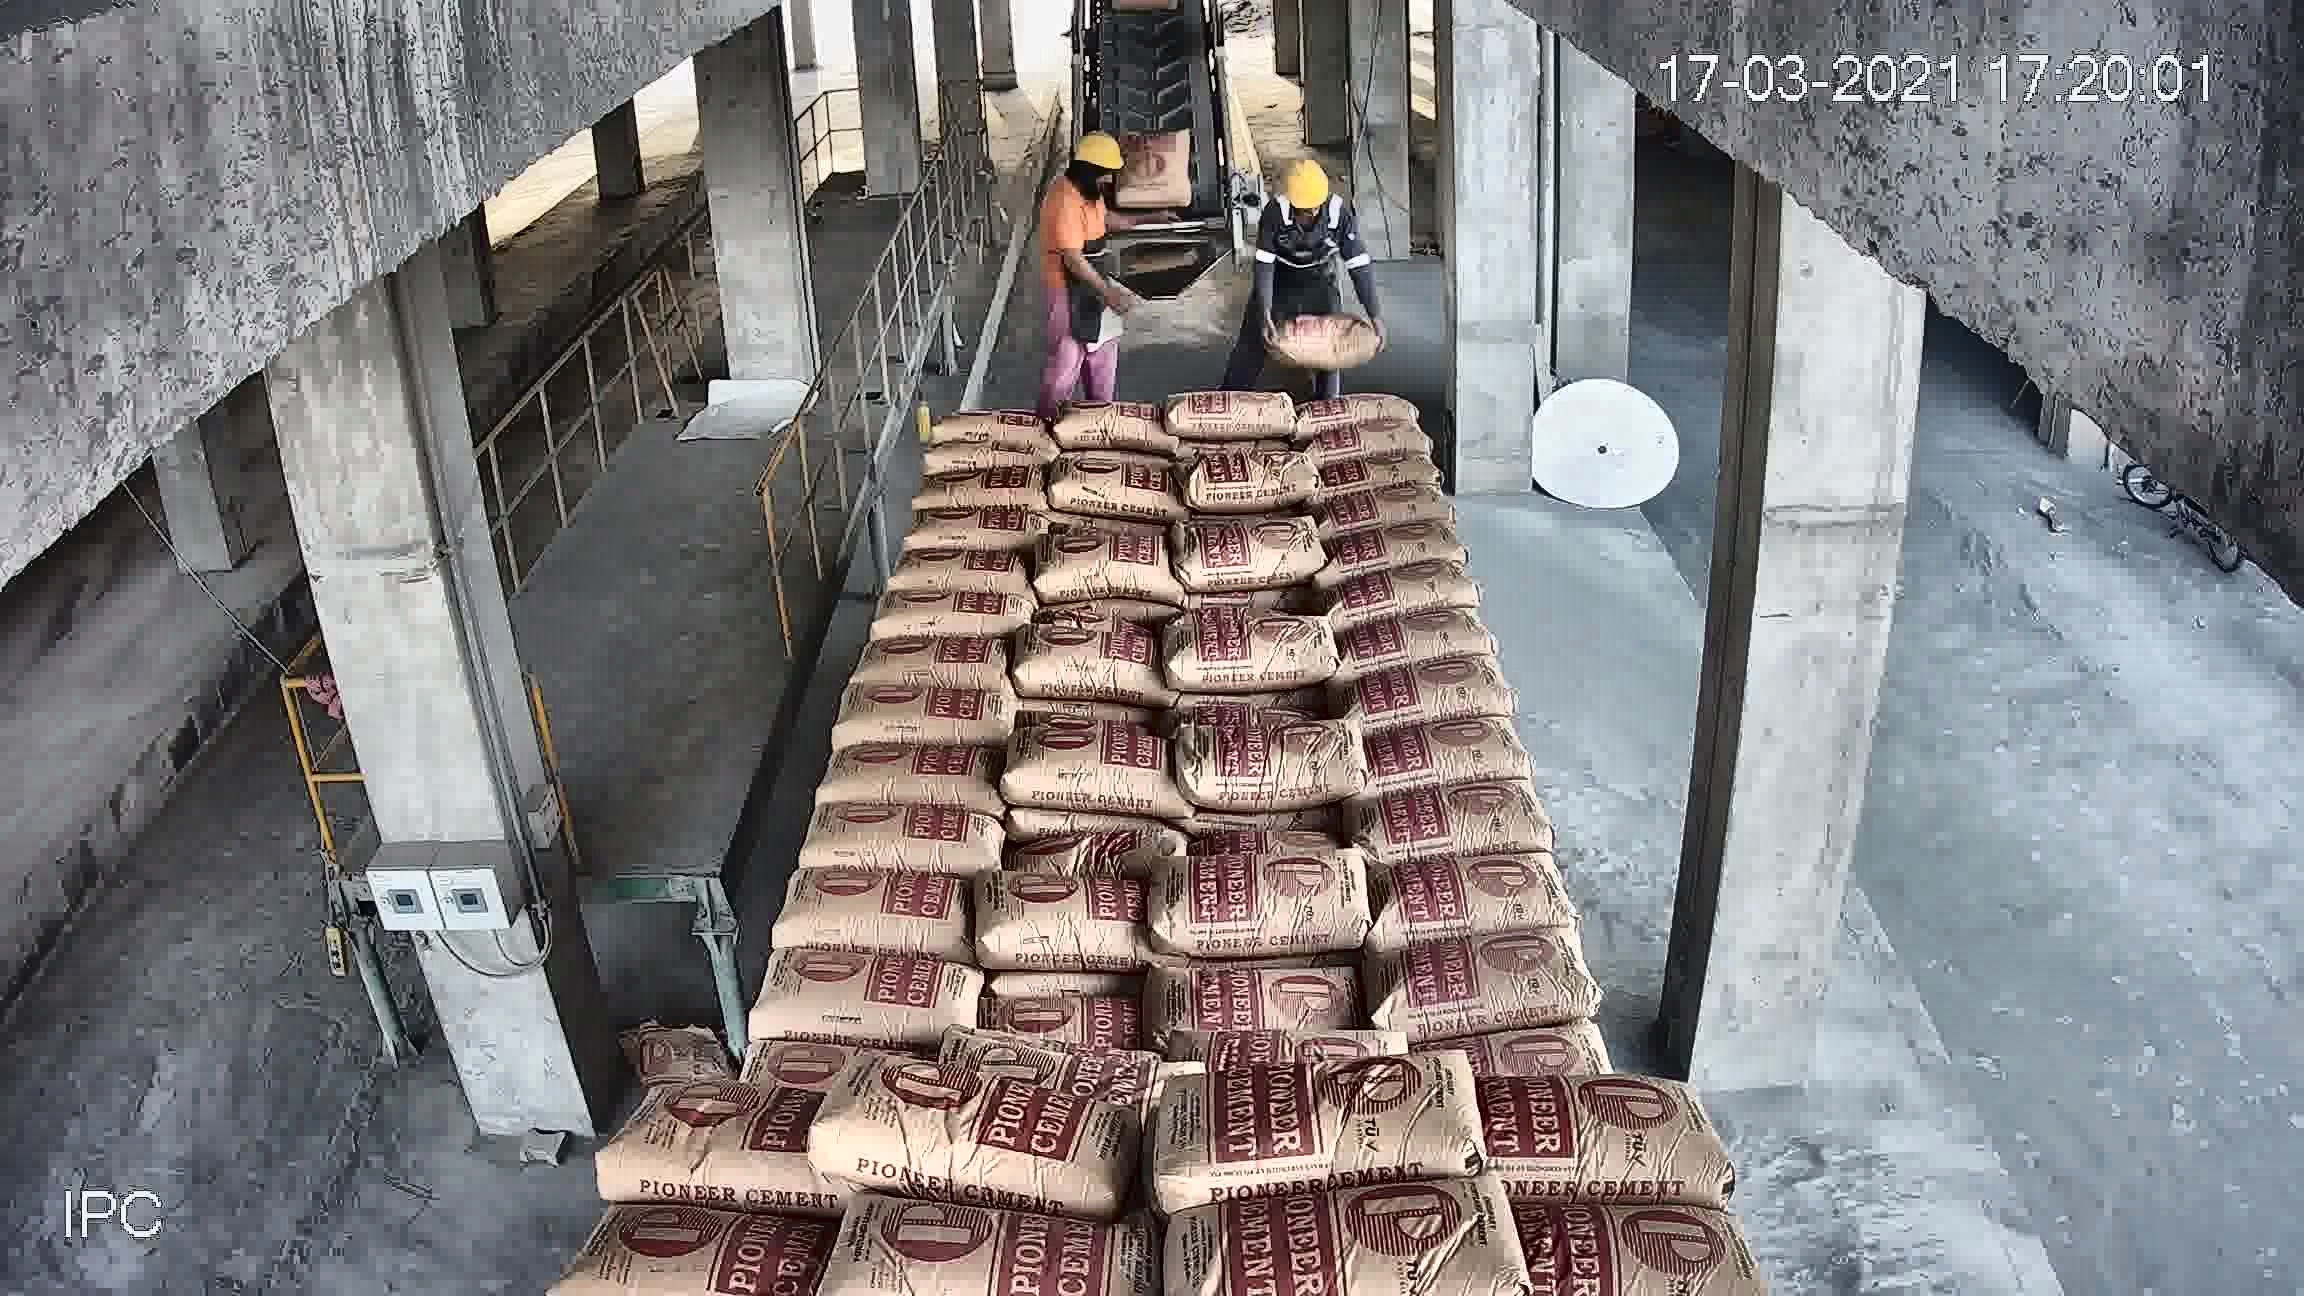bag: (1103, 423, 1263, 638), (1073, 17, 1211, 133)
bag_h: (1141, 1044, 1514, 1212), (1124, 1168, 1552, 1283), (638, 938, 930, 1092), (1385, 905, 1644, 1044), (585, 1067, 813, 1211), (565, 1179, 847, 1291), (1119, 983, 1415, 1081), (1462, 1087, 1704, 1206), (1124, 840, 1362, 938), (1525, 1190, 1745, 1287), (1119, 774, 1374, 851), (1158, 707, 1370, 799), (755, 873, 965, 956), (1503, 1022, 1666, 1119), (1239, 636, 1367, 723), (804, 807, 961, 873), (1337, 551, 1461, 627), (1166, 937, 1291, 1002), (1328, 381, 1438, 441), (831, 680, 938, 741), (815, 744, 927, 794), (1324, 358, 1423, 411), (864, 623, 938, 687), (1315, 343, 1412, 380), (1321, 318, 1385, 351), (1383, 514, 1443, 546)
belt: (999, 33, 1309, 736)
